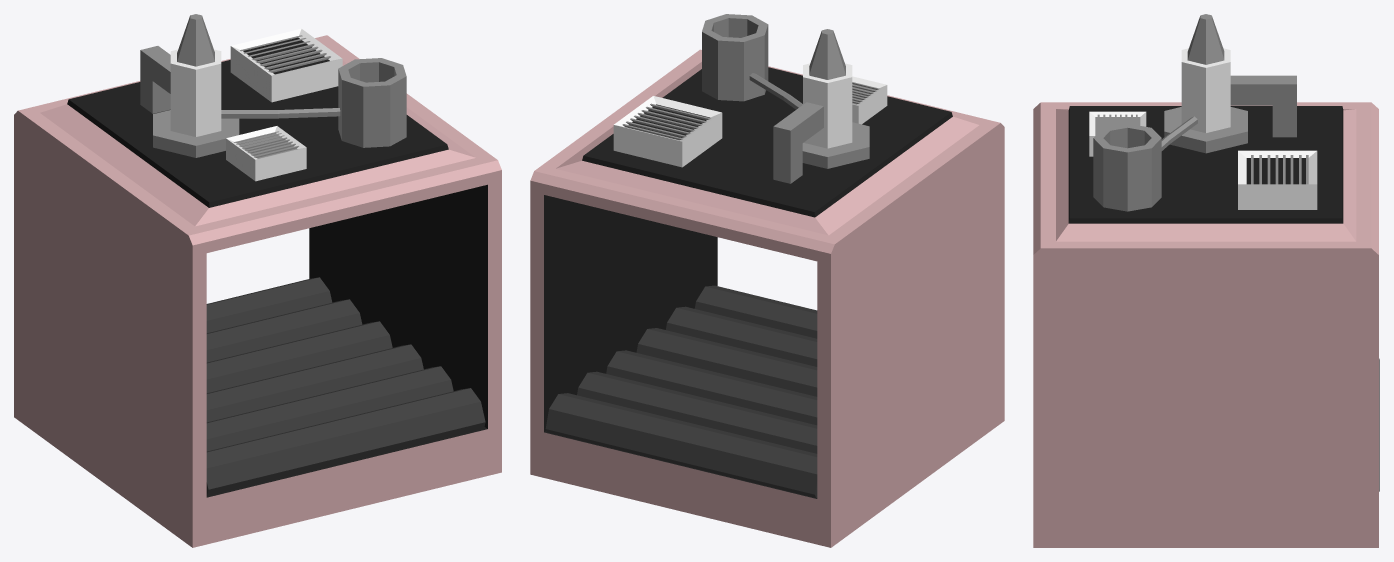
File: bake_Factory 1.fbx
The picture shows the model from 3 angles, left to right: view 1: azimuth 30°, elevation 25°; view 2: azimuth 150°, elevation 25°; view 3: azimuth 270°, elevation 25°; orthographic projection. The views are drawn at different scales.
Parts seen in each view (by area): view 1: 2, wheels_1_.005, wheels_1_.004, wheels_1_.003, wheels_1_.002, wheels_1_.001, wheels_1_; view 2: 2, wheels_1_, wheels_1_.001, wheels_1_.002, wheels_1_.003, wheels_1_.004, wheels_1_.005; view 3: 2.
Part boxes in pixels (x1=…): 2: x1=14, y1=14, x2=501, y2=547; wheels_1_.005: x1=206, y1=388, x2=485, y2=495; wheels_1_.004: x1=206, y1=366, x2=453, y2=451; wheels_1_.003: x1=206, y1=344, x2=423, y2=422; wheels_1_.002: x1=206, y1=321, x2=392, y2=392; wheels_1_.001: x1=206, y1=299, x2=362, y2=362; wheels_1_: x1=206, y1=277, x2=332, y2=332; 2: x1=530, y1=14, x2=1004, y2=547; wheels_1_: x1=545, y1=393, x2=817, y2=497; wheels_1_.001: x1=577, y1=371, x2=817, y2=453; wheels_1_.002: x1=606, y1=350, x2=817, y2=425; wheels_1_.003: x1=636, y1=328, x2=817, y2=396; wheels_1_.004: x1=666, y1=306, x2=817, y2=366; wheels_1_.005: x1=694, y1=285, x2=817, y2=338; 2: x1=1033, y1=14, x2=1378, y2=547.
Size of the model in its own units: 100 by 137 by 100.
